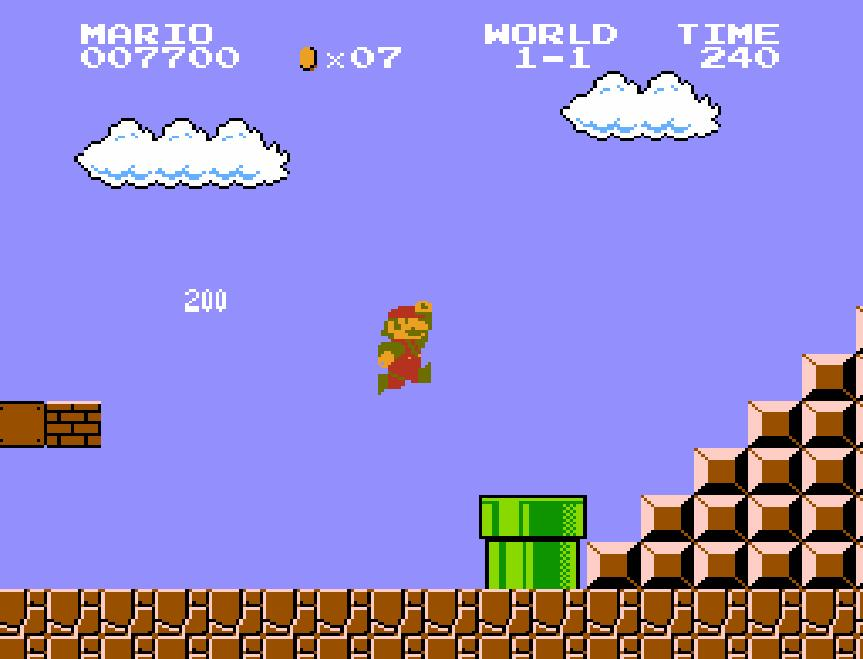big_mario: (376, 298, 434, 396)
